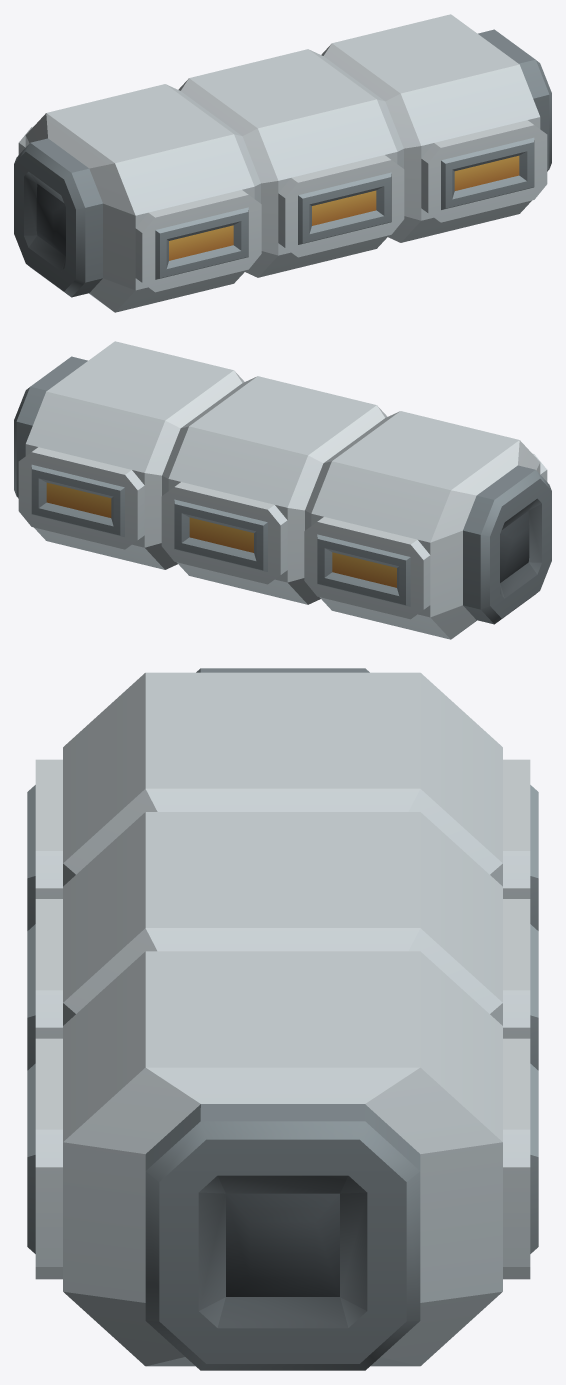
Rendered from kaykit_tunnel_straight_a.glb.
The picture shows the model from 3 angles, top to bottom: view 1: azimuth 30°, elevation 25°; view 2: azimuth 150°, elevation 25°; view 3: azimuth 270°, elevation 25°; orthographic projection. The views are drawn at different scales.
Parts seen in each view (by area): view 1: tunnel_straight_A; view 2: tunnel_straight_A; view 3: tunnel_straight_A.
Part boxes in pixels (box(x1,y1,x2,y2)): tunnel_straight_A: box(14, 14, 551, 312); tunnel_straight_A: box(14, 341, 551, 639); tunnel_straight_A: box(27, 668, 538, 1370).
Size of the model in its own units: 2 by 0.6 by 0.93.
1 material, 1 textured.
